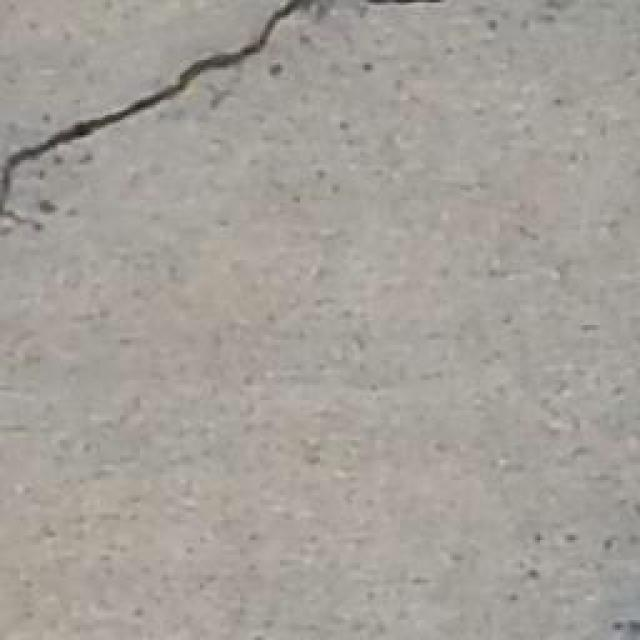concrete-crack: (0, 0, 305, 212)
